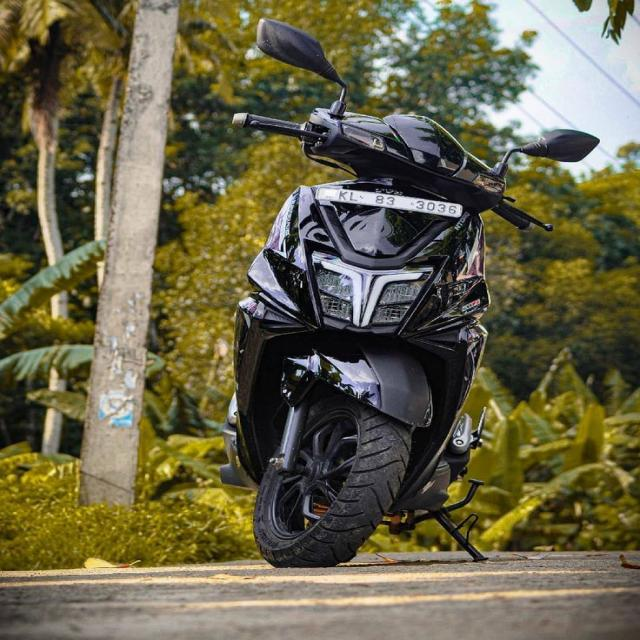bike: (212, 29, 605, 640)
